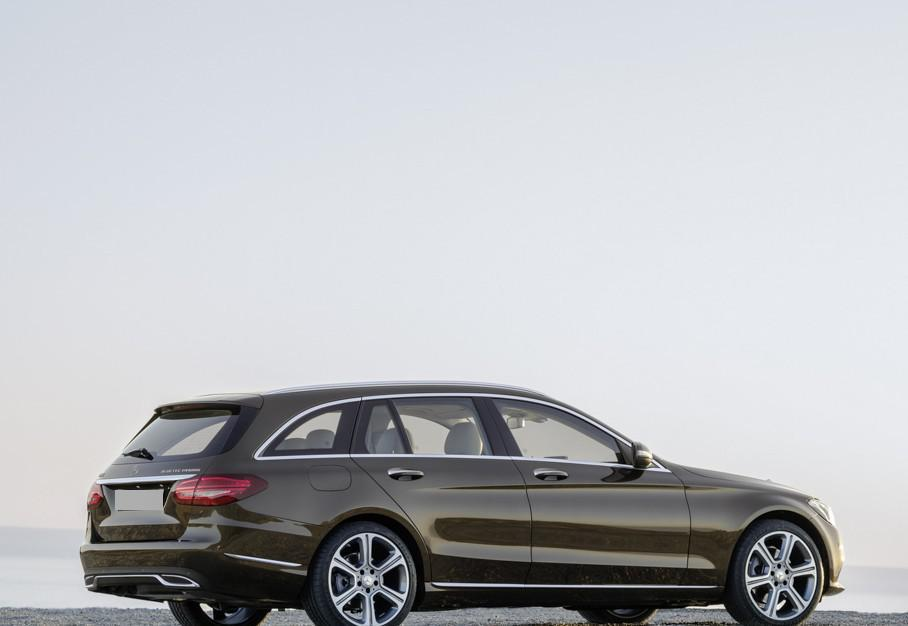Wagon: (79, 380, 844, 626)
